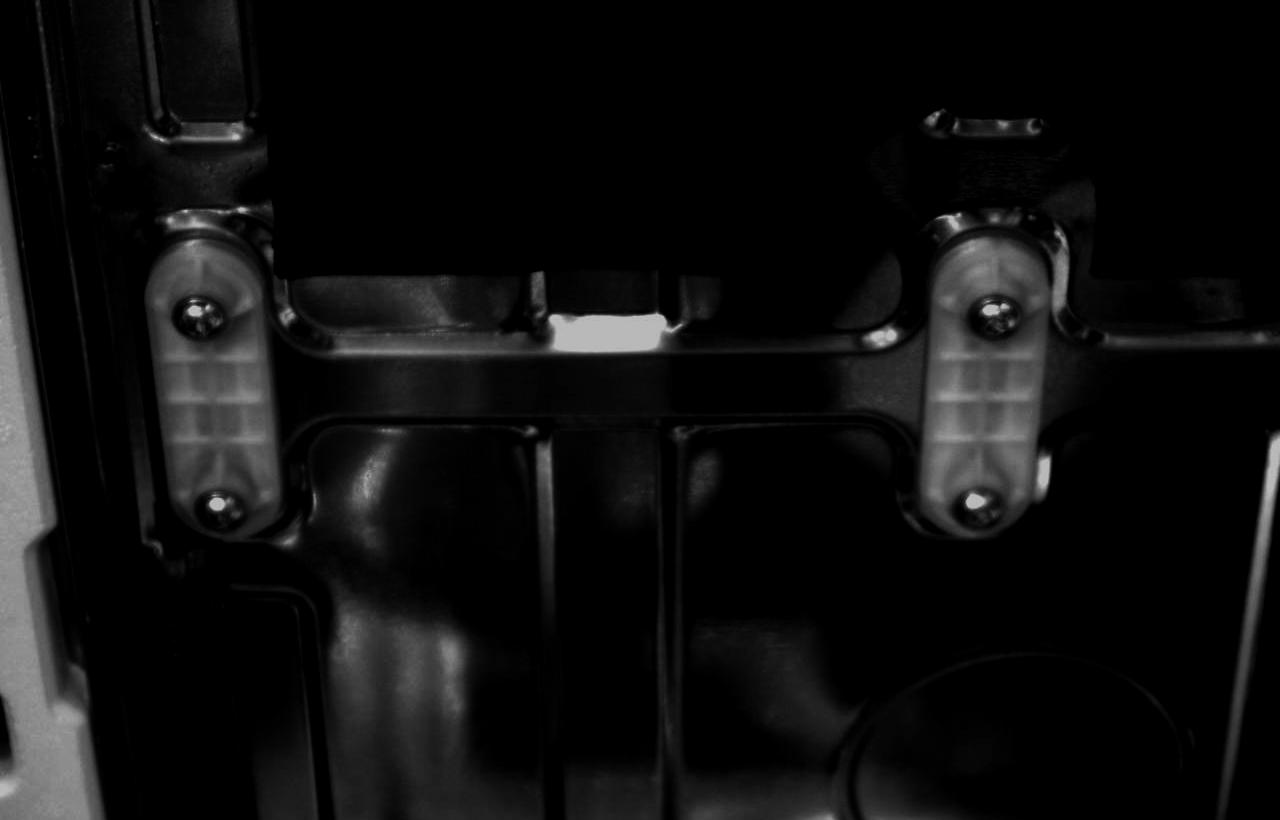vida-ok: (177, 281, 264, 358), (964, 271, 1052, 344), (203, 471, 284, 535), (948, 481, 1024, 540)
